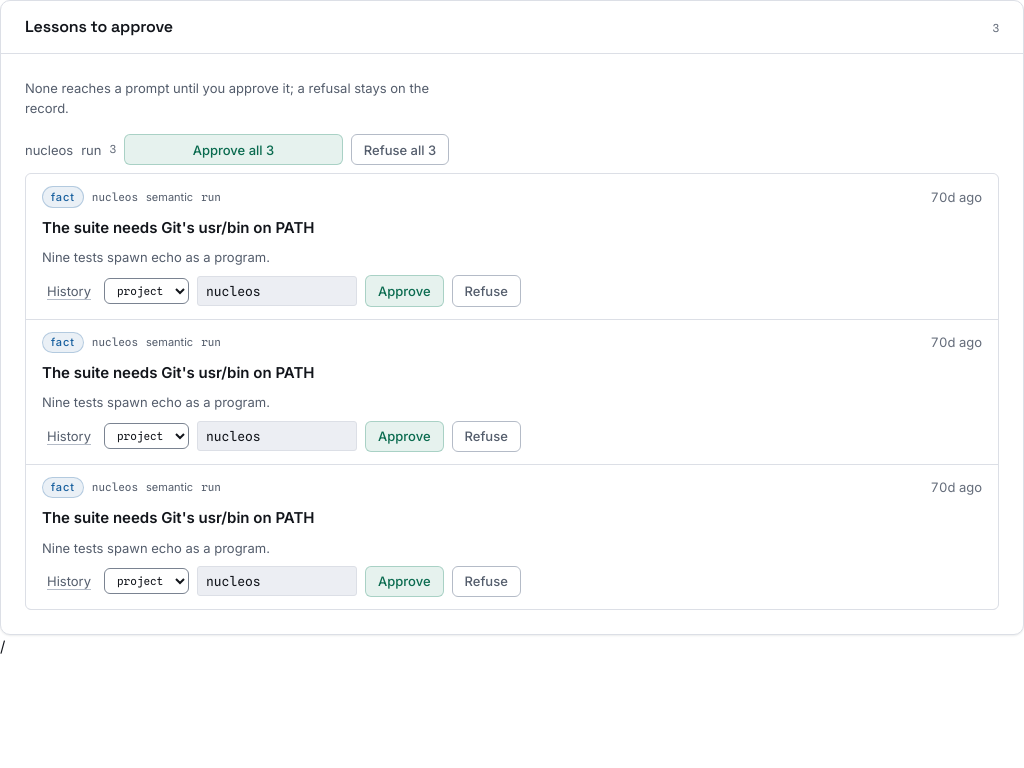
Test case: WaitingPanel › a batch that partly fails says how many were decided and keeps going
The image size is (1024, 768).
Step 1. Click the button "Refuse all 3" → (400,150), box [351,134,449,165]
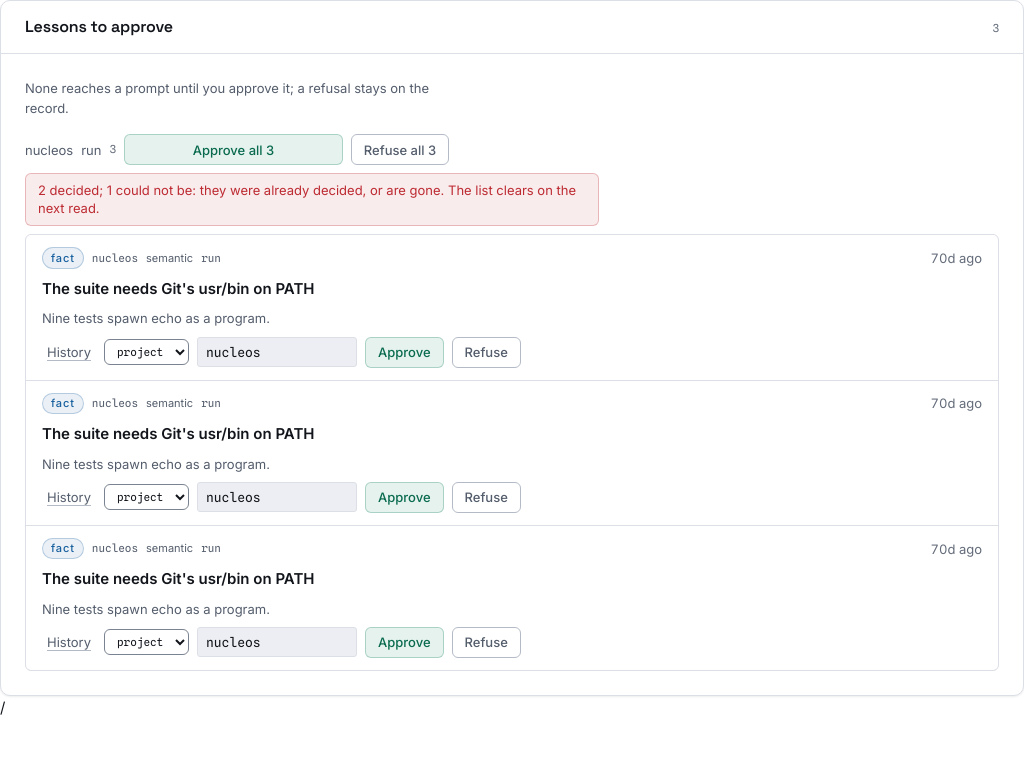
Now the text "2 decided; 1 could not be" is shown, box [38,182,586,218]
